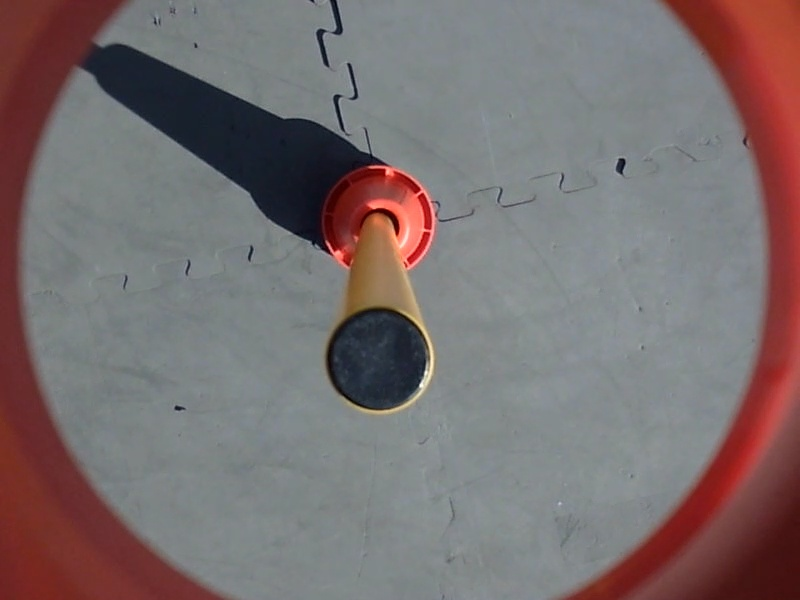tip: (324, 300, 440, 419)
